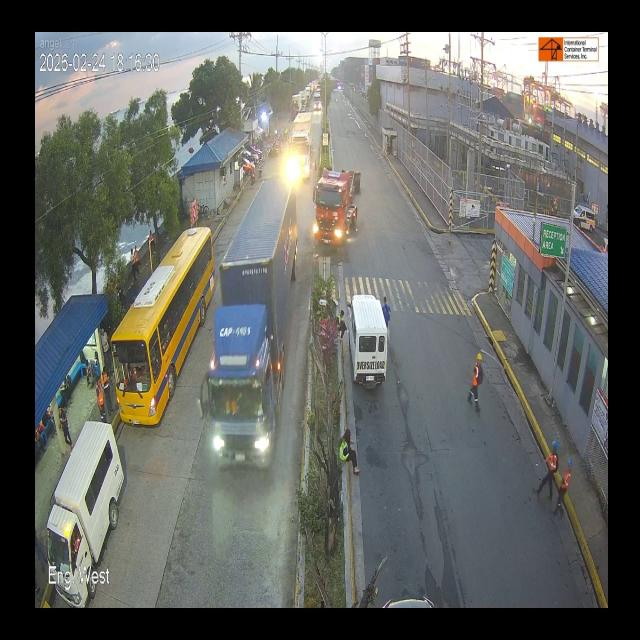bus: (107, 222, 220, 436)
car: (40, 442, 122, 554), (345, 294, 390, 391)
truck: (204, 172, 306, 495), (306, 154, 370, 256), (292, 113, 314, 183)
